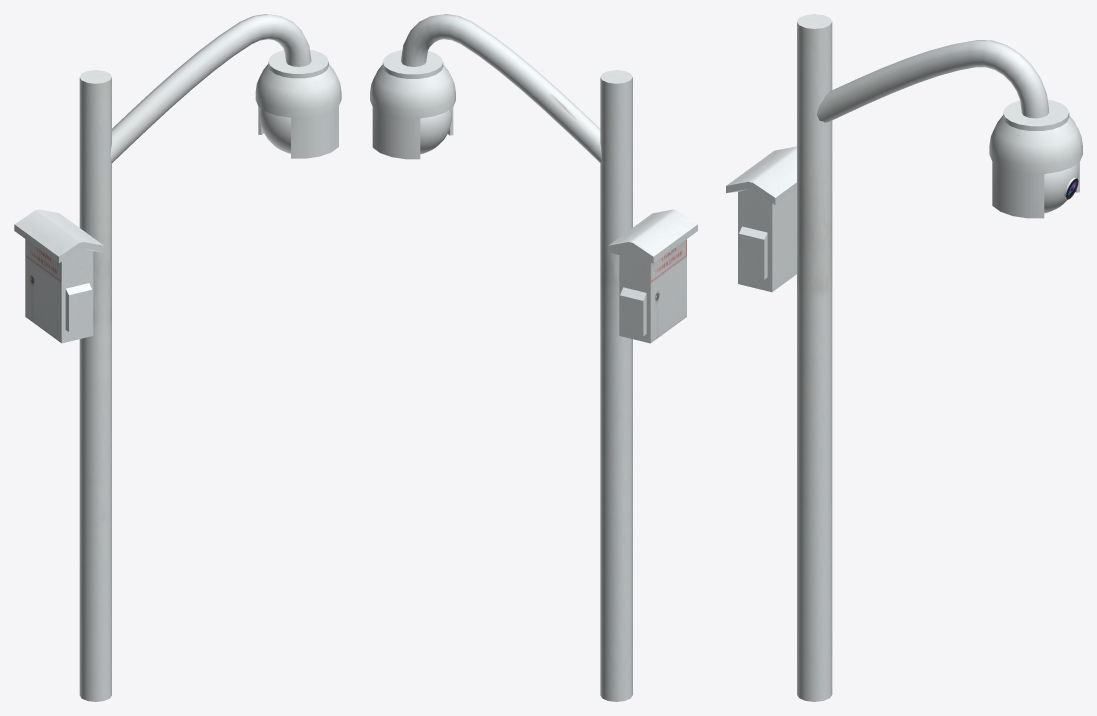
The model's file is qiuji.gltf.
3 views of the same model, side by side, from view 1: azimuth 30°, elevation 25°; view 2: azimuth 150°, elevation 25°; view 3: azimuth 330°, elevation 25° (orthographic). The views are drawn at different scales.
Visible parts, largest first — view 1: 物体; view 2: 物体; view 3: 物体.
Part boxes in pixels (box(x1,y1,x2,y2)): 物体: box(14, 14, 341, 701); 物体: box(370, 14, 697, 701); 物体: box(726, 14, 1082, 701).
Size of the model in its own units: 1.24 by 2.53 by 0.3189.
2 materials, 2 textured.
